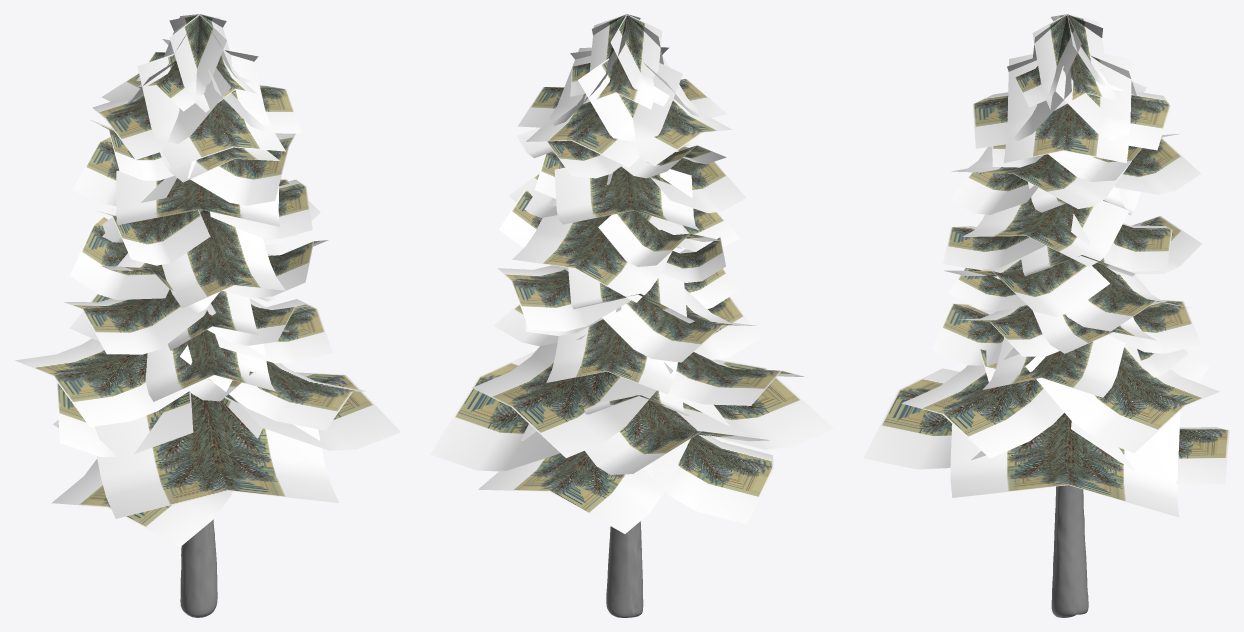
File: tree1.fbx
The picture shows the model from 3 angles, left to right: view 1: azimuth 30°, elevation 25°; view 2: azimuth 150°, elevation 25°; view 3: azimuth 270°, elevation 25°; orthographic projection.
Visible parts, largest first — view 1: pPlane43, PM3D_Cylinder3D_1; view 2: pPlane43, PM3D_Cylinder3D_1; view 3: pPlane43, PM3D_Cylinder3D_1.
Boxes of the visible parts, box(x1,y1,x2,y2) form: pPlane43: box(15, 14, 400, 546); PM3D_Cylinder3D_1: box(180, 209, 217, 617); pPlane43: box(430, 14, 834, 533); PM3D_Cylinder3D_1: box(606, 521, 643, 617); pPlane43: box(863, 14, 1229, 517); PM3D_Cylinder3D_1: box(1051, 485, 1088, 617).
Bounding box in the file's own units: 3.58 × 6.79 × 3.75.
